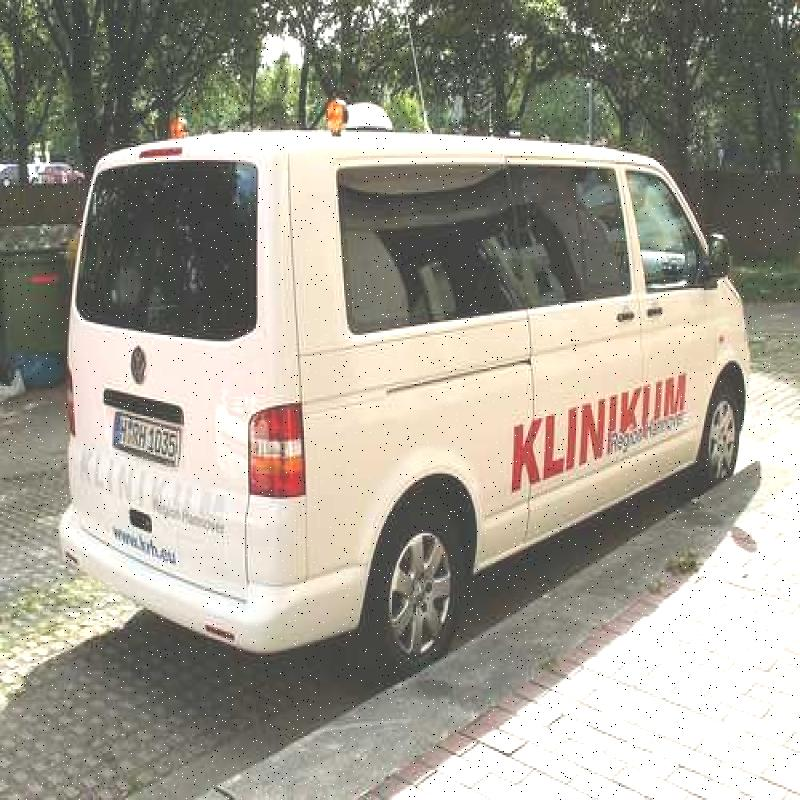AmbulanceSiren: (317, 86, 359, 149), (166, 107, 202, 146)
